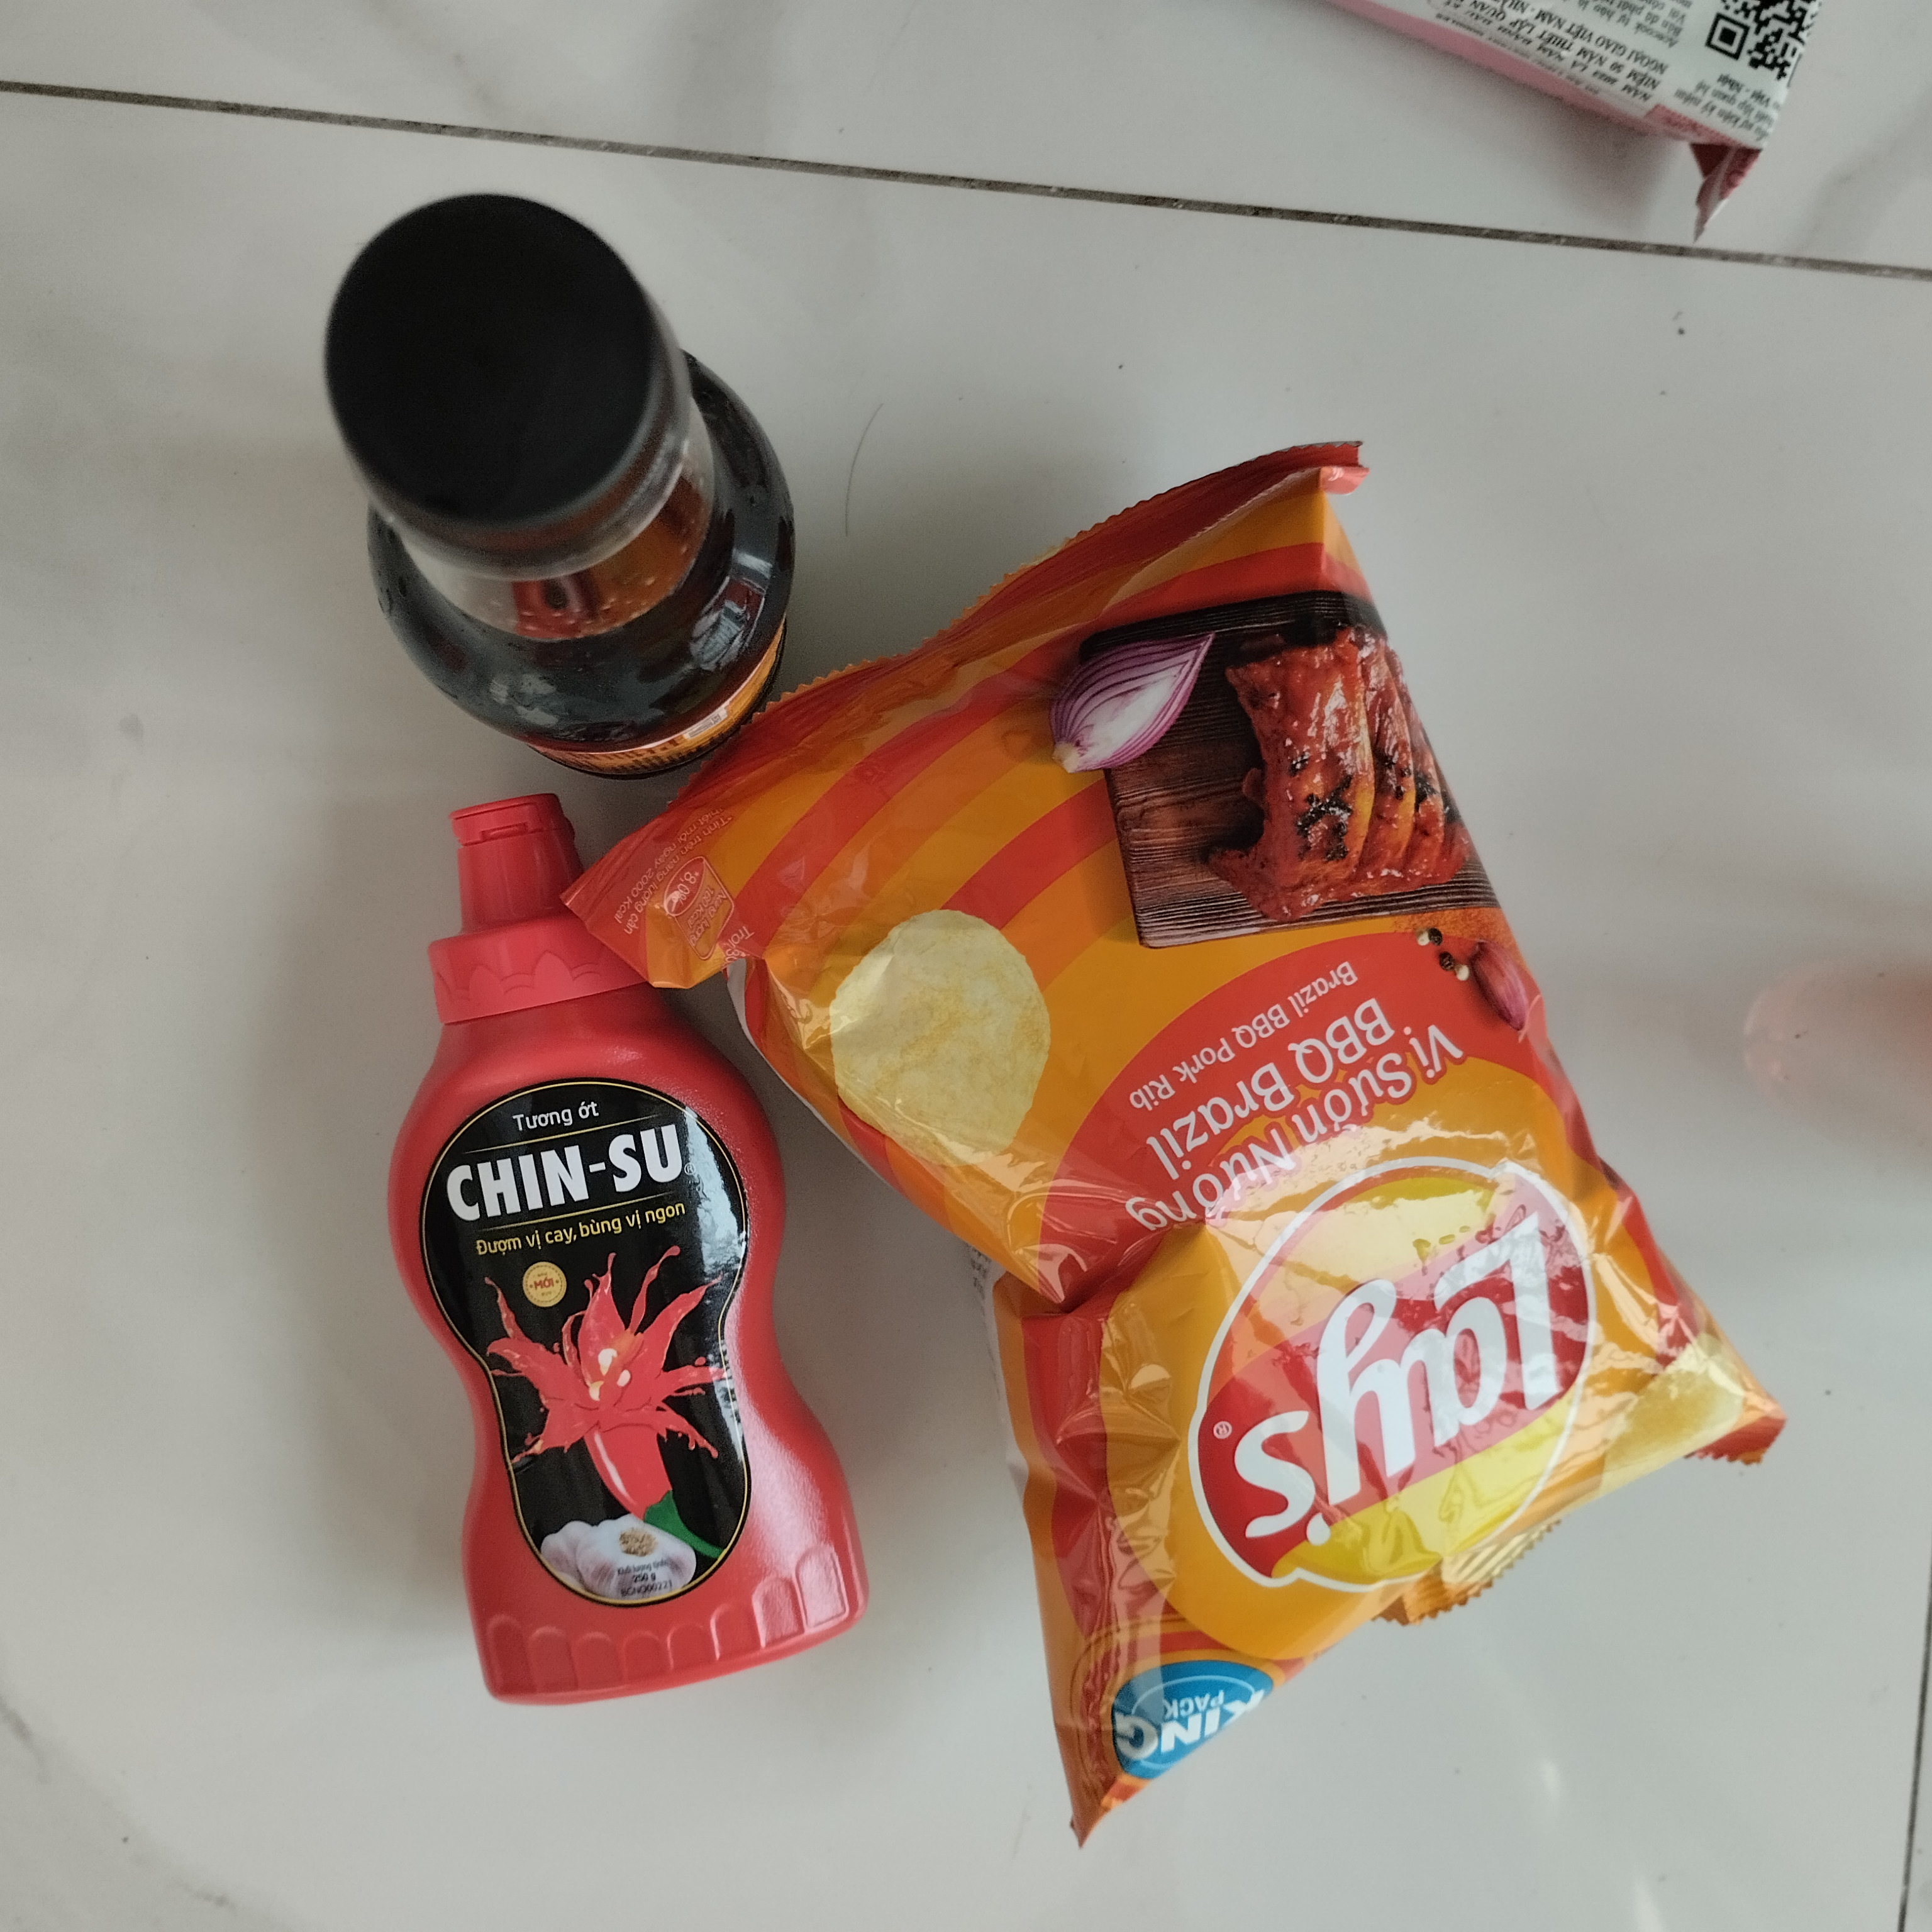247: (322, 188, 824, 794)
Chinsu: (373, 780, 893, 1721)
Lays: (520, 426, 1796, 1836)
